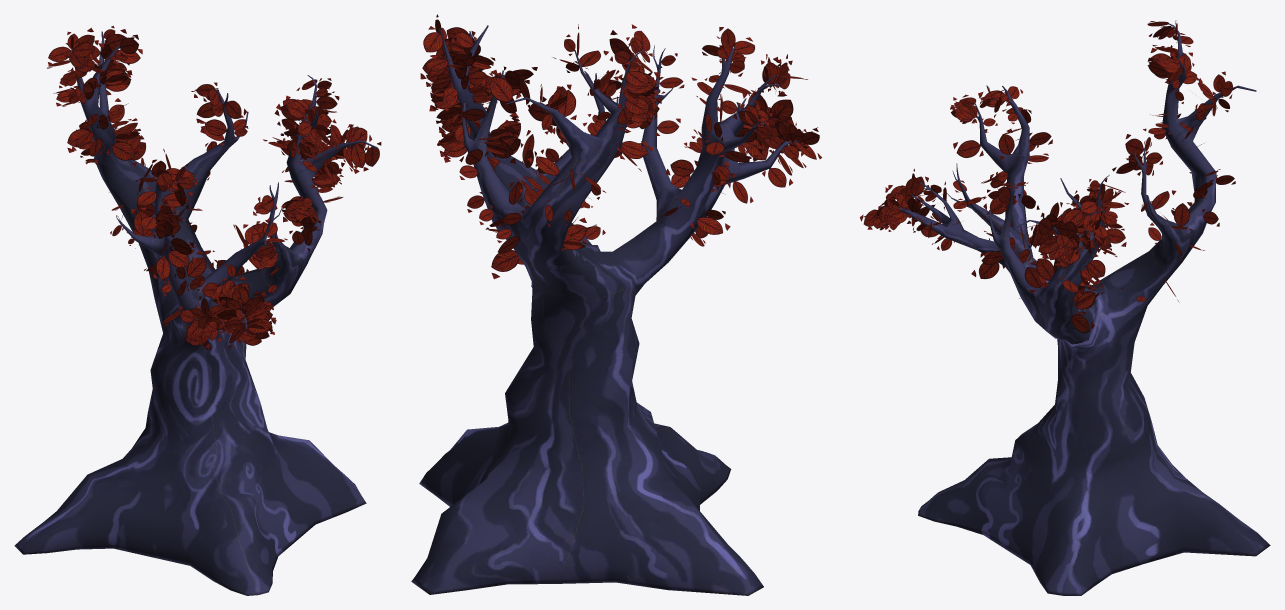
File: tree_twisted.glb
The picture shows the model from 3 angles, left to right: view 1: azimuth 30°, elevation 25°; view 2: azimuth 150°, elevation 25°; view 3: azimuth 270°, elevation 25°; orthographic projection. The views are drawn at different scales.
Visible parts, largest first — view 1: tree_twisted; view 2: tree_twisted; view 3: tree_twisted.
Part boxes in pixels (x1,y1,x2,y2): tree_twisted: (14,25,381,595); tree_twisted: (411,14,821,595); tree_twisted: (860,20,1270,595).
Bounding box in the file's own units: 3.49 × 5.08 × 4.03.
2 materials, 2 textured.
